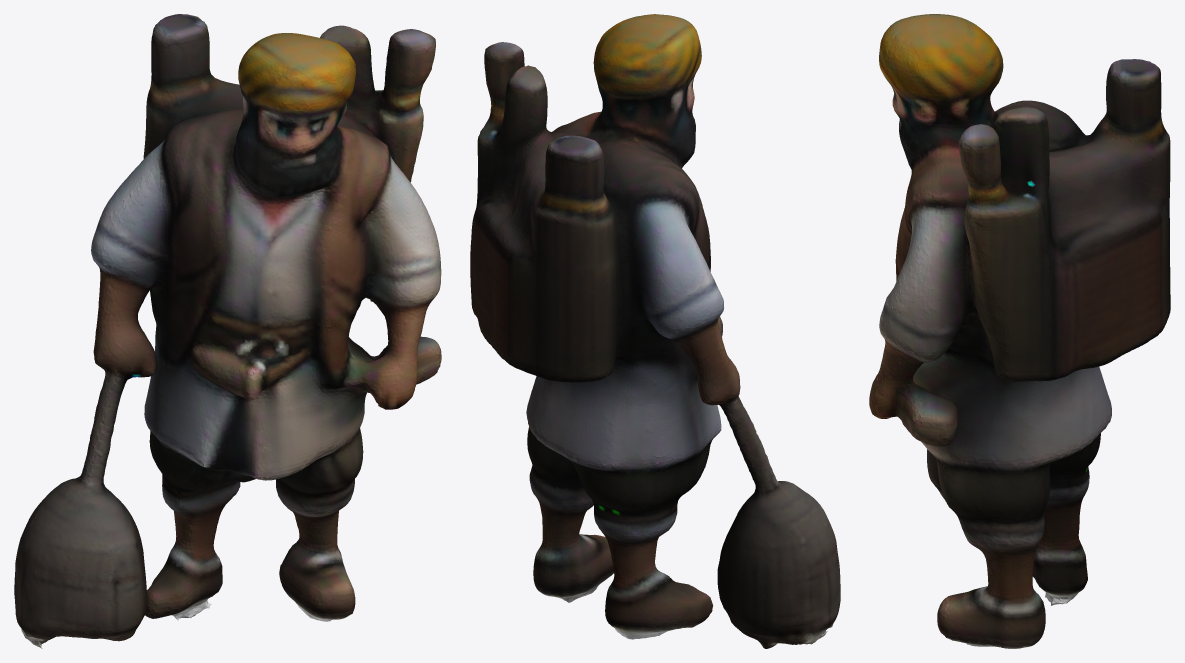
File: mesh_with_colors.obj
The picture shows the model from 3 angles, left to right: view 1: azimuth 30°, elevation 25°; view 2: azimuth 150°, elevation 25°; view 3: azimuth 270°, elevation 25°; orthographic projection. The views are drawn at different scales.
Size of the model in its own units: 0.6953 by 1.03 by 0.4689.
